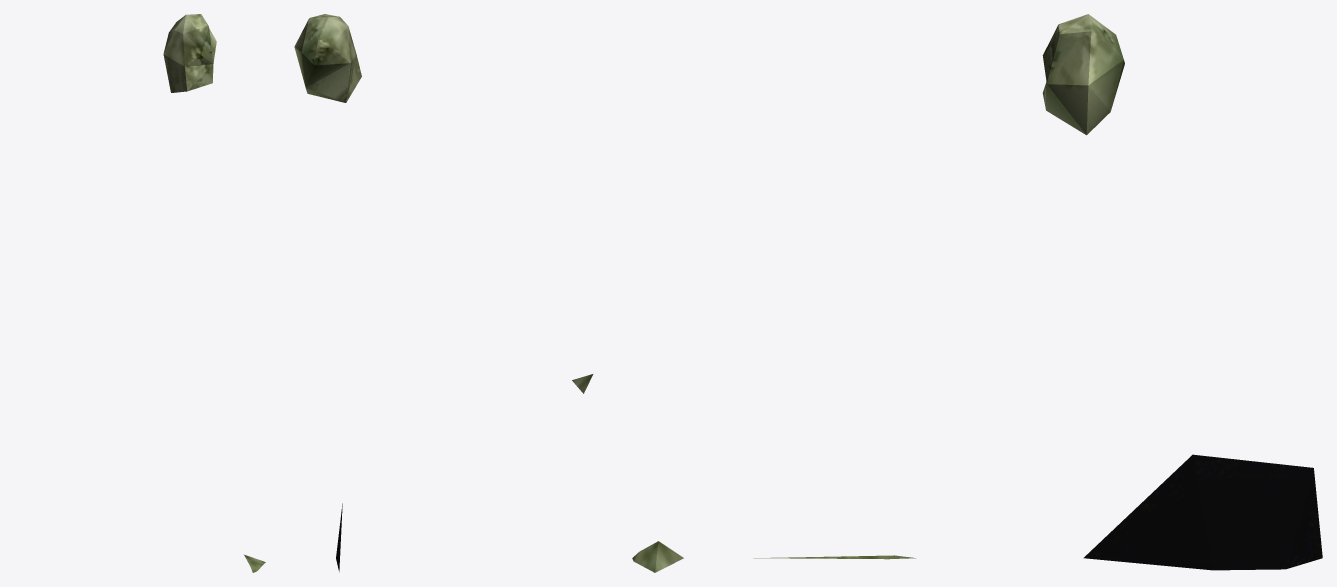
3 views of the same model, side by side, from view 1: azimuth 30°, elevation 25°; view 2: azimuth 150°, elevation 25°; view 3: azimuth 270°, elevation 25° (orthographic). The views are drawn at different scales.
Bounding box in the file's own units: 0.7121 × 2.35 × 2.42.
Materials: 1 (1 with a texture image).
